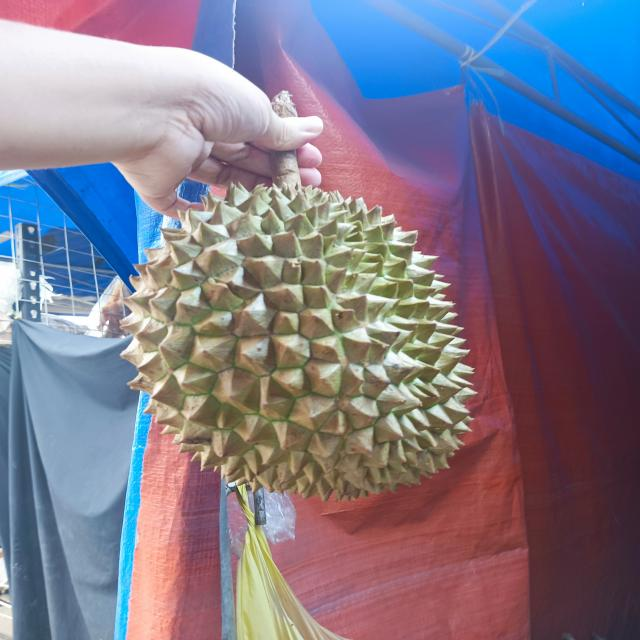mature: (119, 176, 475, 500)
